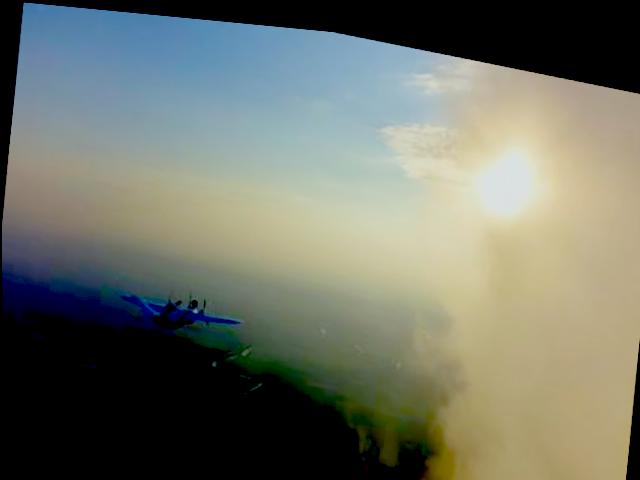uav: (114, 274, 250, 341)
